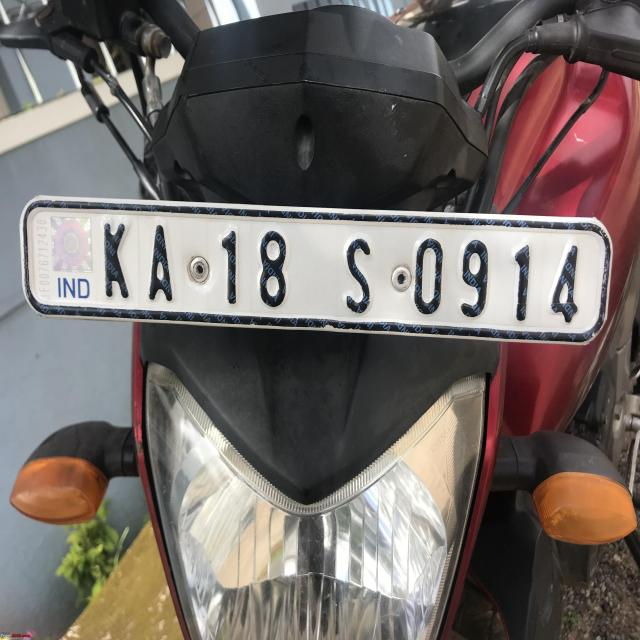0: (415, 236, 443, 320)
1: (509, 242, 534, 327), (217, 229, 240, 308)
4: (552, 245, 580, 328)
8: (256, 233, 292, 308)
9: (458, 236, 488, 321)
a: (143, 219, 179, 307)
k: (96, 217, 137, 304)
s: (345, 236, 373, 318)
